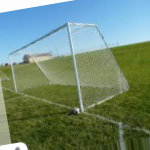goals: (7, 20, 131, 113)
